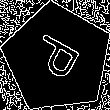P_SE: (26, 30, 88, 87)
